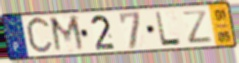2: (90, 14, 116, 52)
7: (117, 10, 142, 51)
C: (25, 14, 55, 57)
L: (153, 10, 183, 47)
M: (48, 14, 88, 55)
Z: (180, 9, 214, 45)
